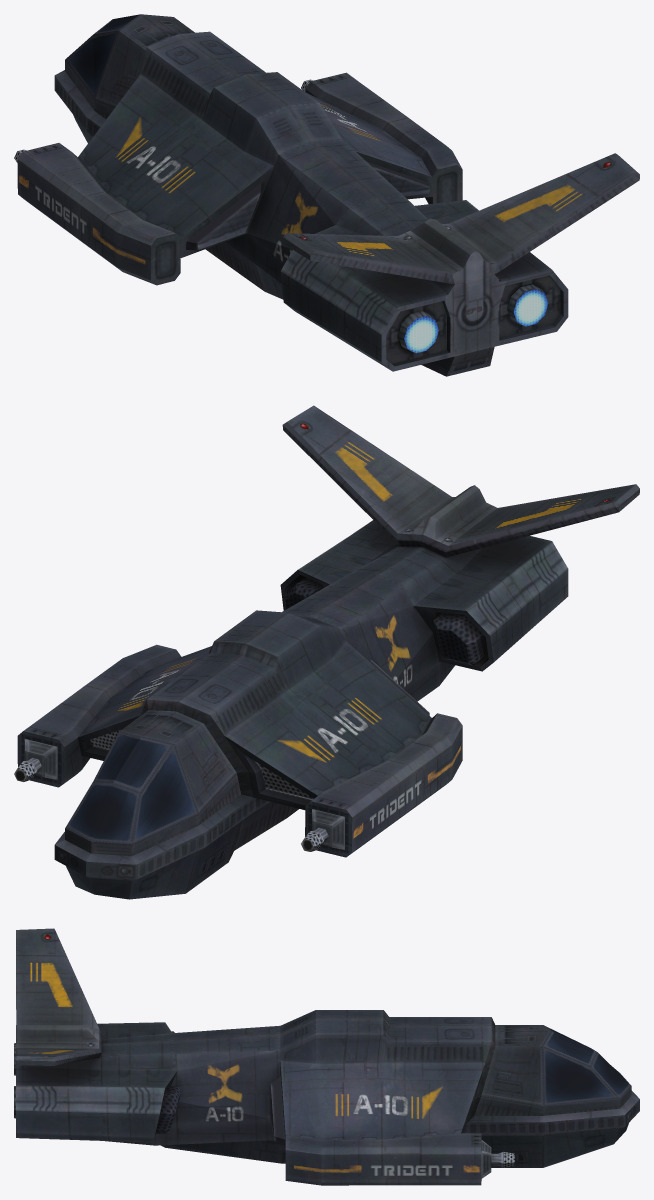
File: vanguard_backup.glb
The picture shows the model from 3 angles, top to bottom: view 1: azimuth 30°, elevation 25°; view 2: azimuth 150°, elevation 25°; view 3: azimuth 270°, elevation 25°; orthographic projection. The views are drawn at different scales.
Parts seen in each view (by area): view 1: Trident_Space_Fighter; view 2: Trident_Space_Fighter; view 3: Trident_Space_Fighter.
Boxes of the visible parts, x1,y1,x2,y2 form: Trident_Space_Fighter: (14, 14, 639, 376); Trident_Space_Fighter: (14, 405, 639, 899); Trident_Space_Fighter: (14, 928, 639, 1185).
Bounding box in the file's own units: 1.67 × 0.9458 × 3.36.
Materials: 1 (1 with a texture image).
